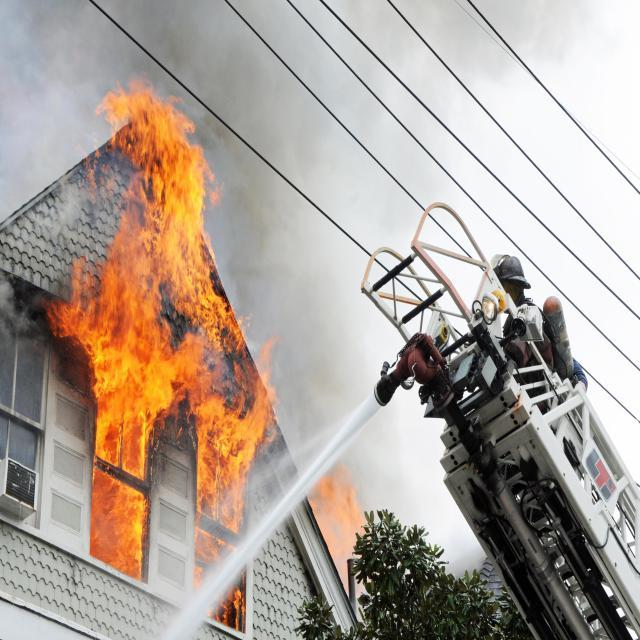Fire: (44, 56, 264, 615)
